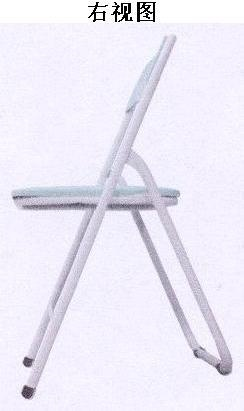obstacle: (22, 34, 231, 398)
